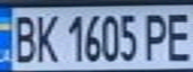0: (100, 11, 121, 63)
1: (60, 11, 84, 63)
5: (118, 10, 142, 62)
6: (81, 11, 103, 63)
B: (6, 11, 39, 64)
E: (160, 8, 193, 62)
K: (30, 10, 60, 64)
P: (139, 9, 172, 62)
